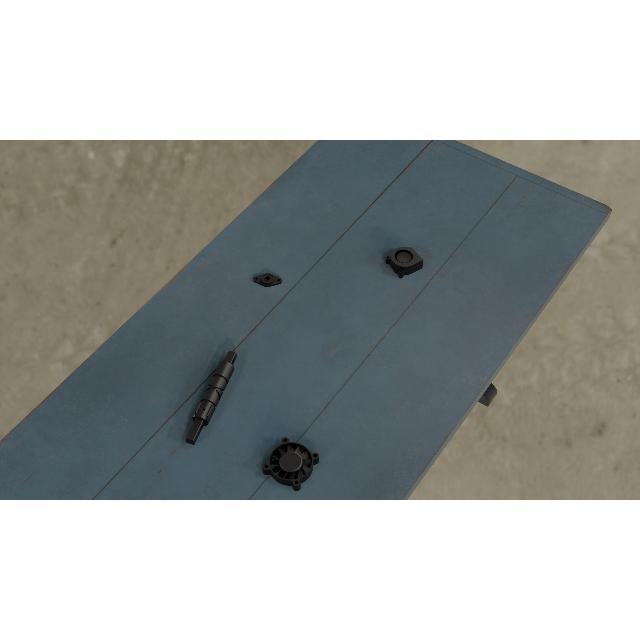Pieza1: (182, 348, 240, 448)
Pieza2: (252, 272, 284, 288)
Pieza3: (384, 243, 424, 280)
Pieza4: (260, 435, 322, 493)
